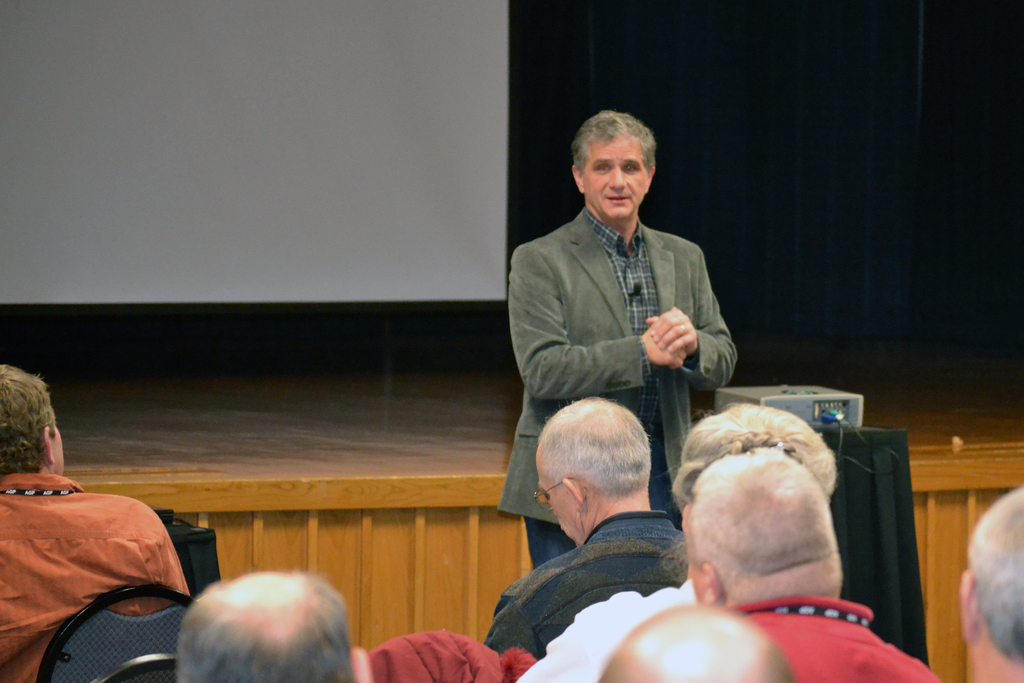Human-face: (576, 139, 653, 220)
